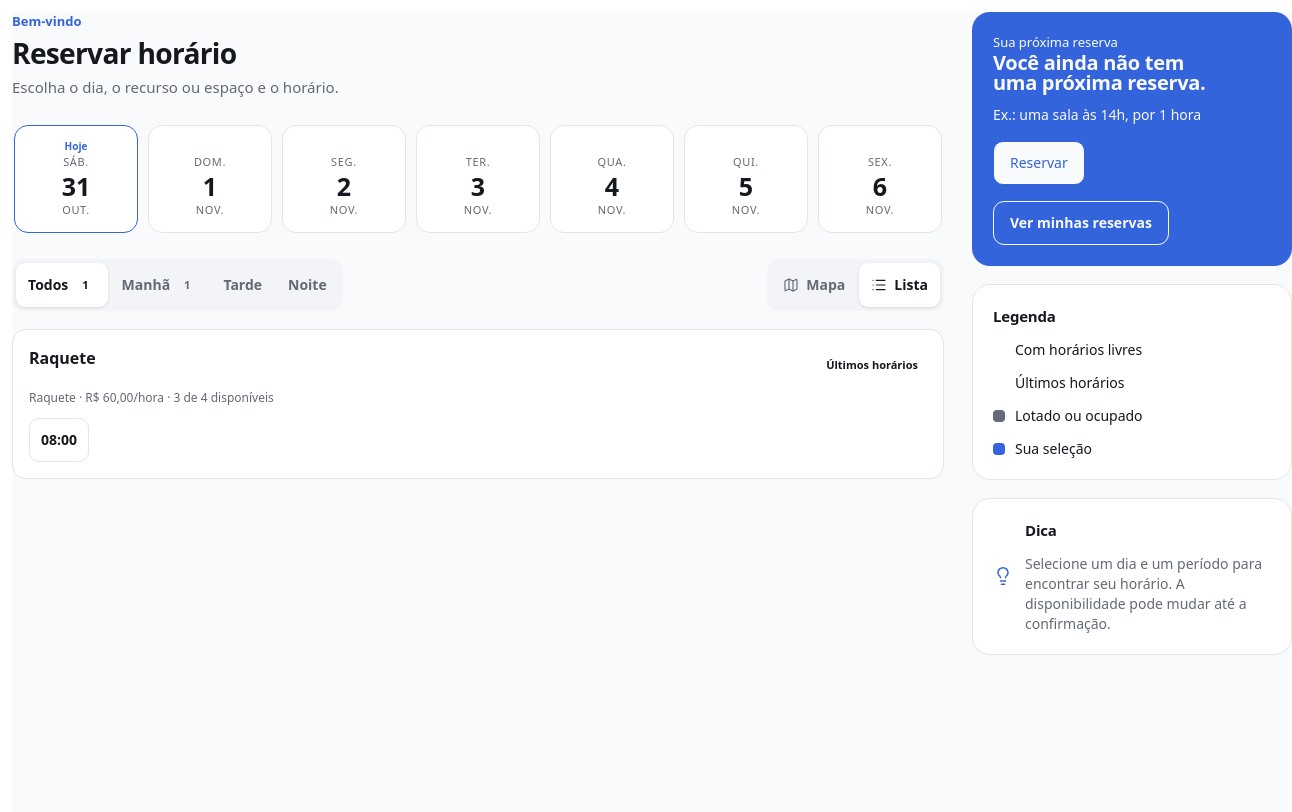
BookingMapExperience › shows the quoted Hour unit for a two-hour window
The width and height of the screenshot is (1292, 812).
Step 1. Click the radio button labelled "Mapa" → coordinates (814, 285), box [771,263,857,307]
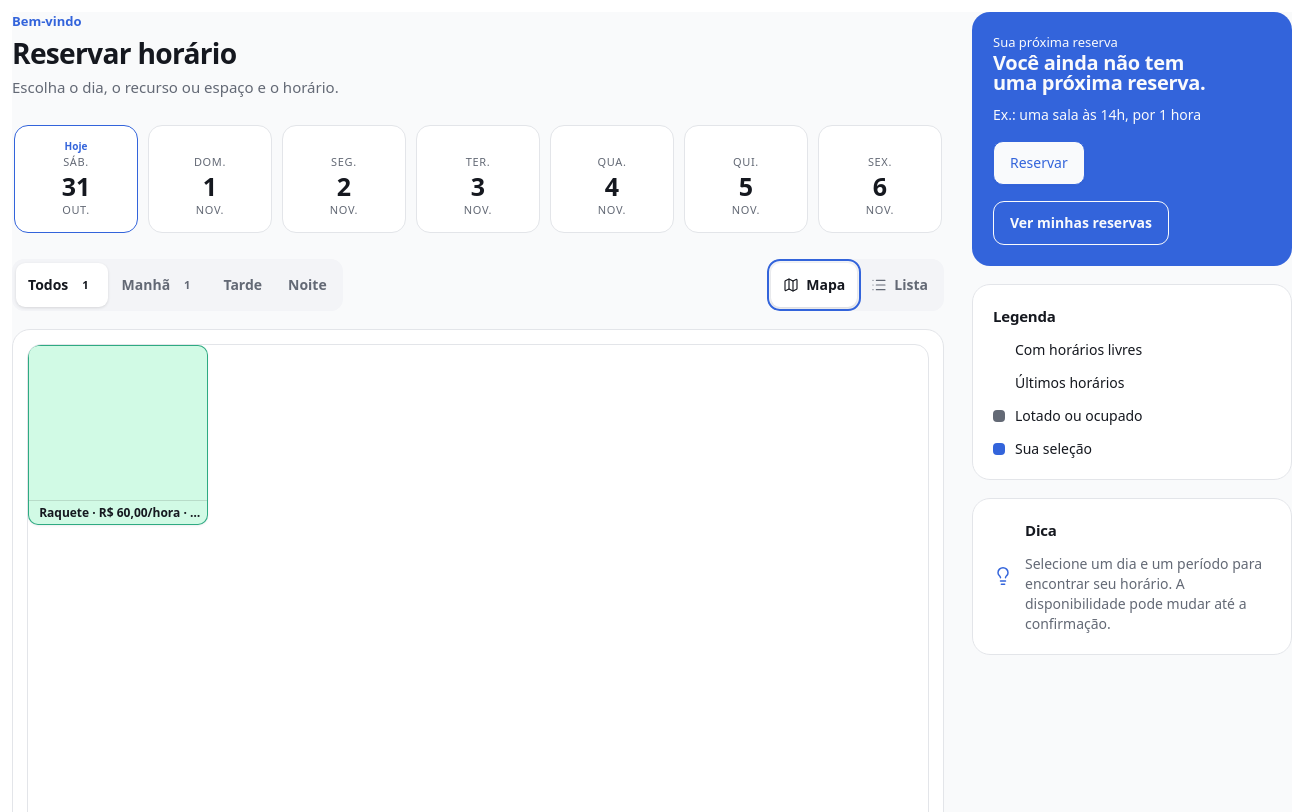
Check: the button "Raquete" shows "R$ 60,00/hora", box [28,345,208,525]
